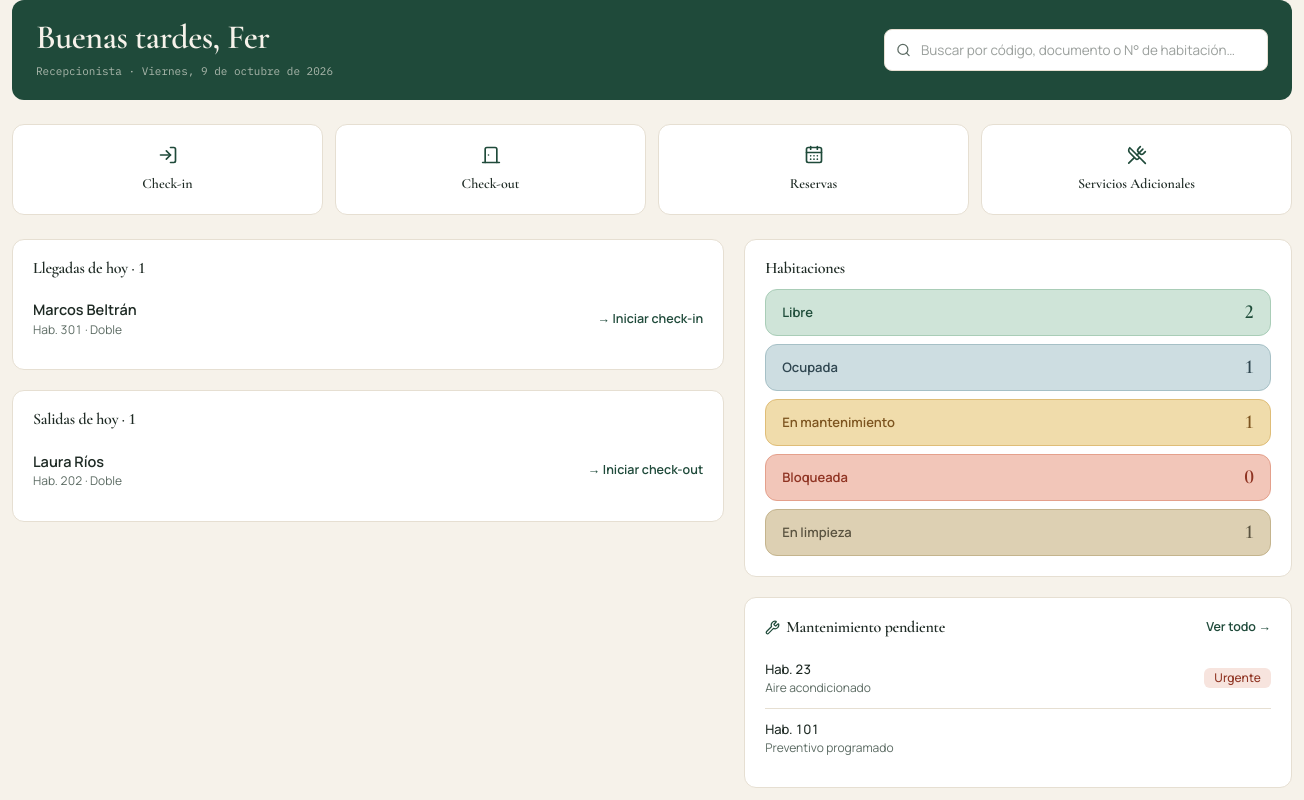
Scenario: RecepcionistaInicio — buscador único del header › sin coincidencias en ningún lado: muestra un toast, no navega
The width and height of the screenshot is (1304, 800).
In the field with placeholder "Buscar por código, documento o N° de habitación…": (1076, 50) x1=884 y1=29 x2=1268 y2=71, type "no-existe-999"
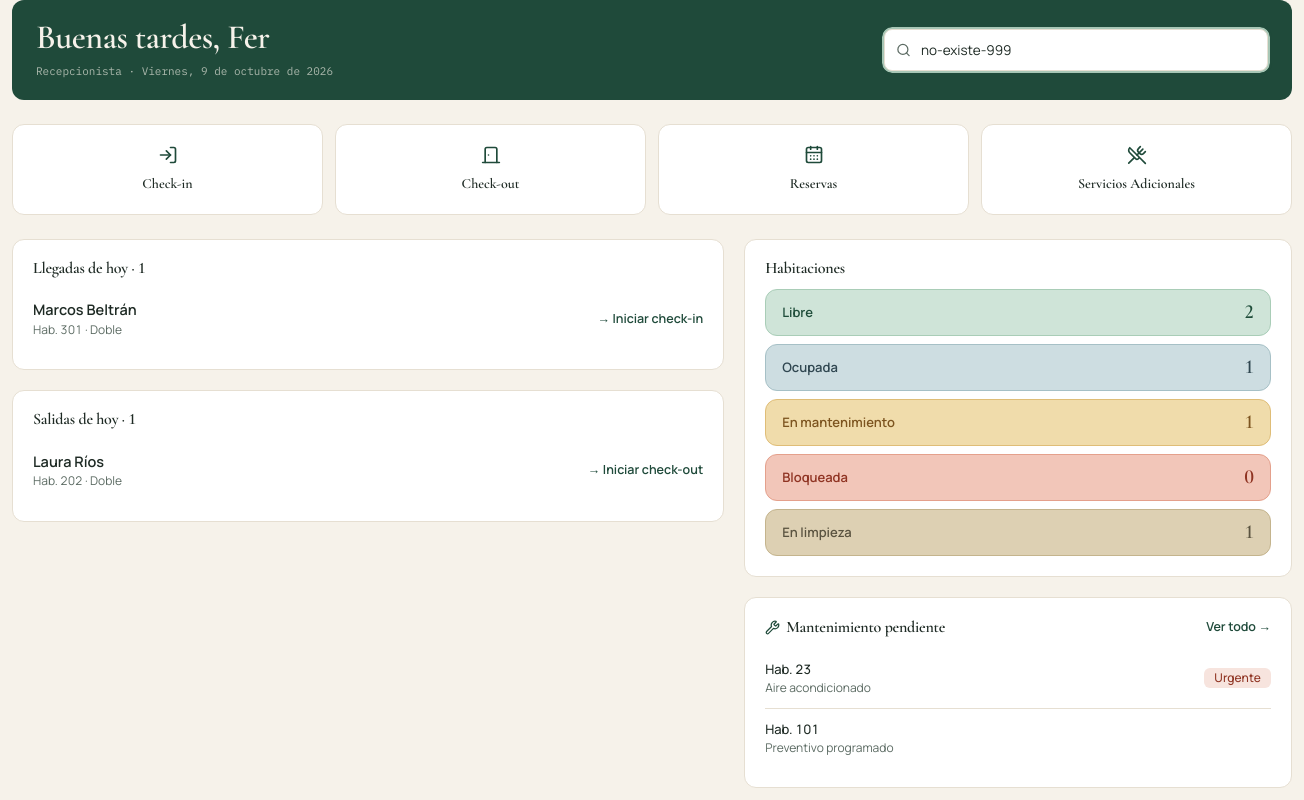
Press Enter
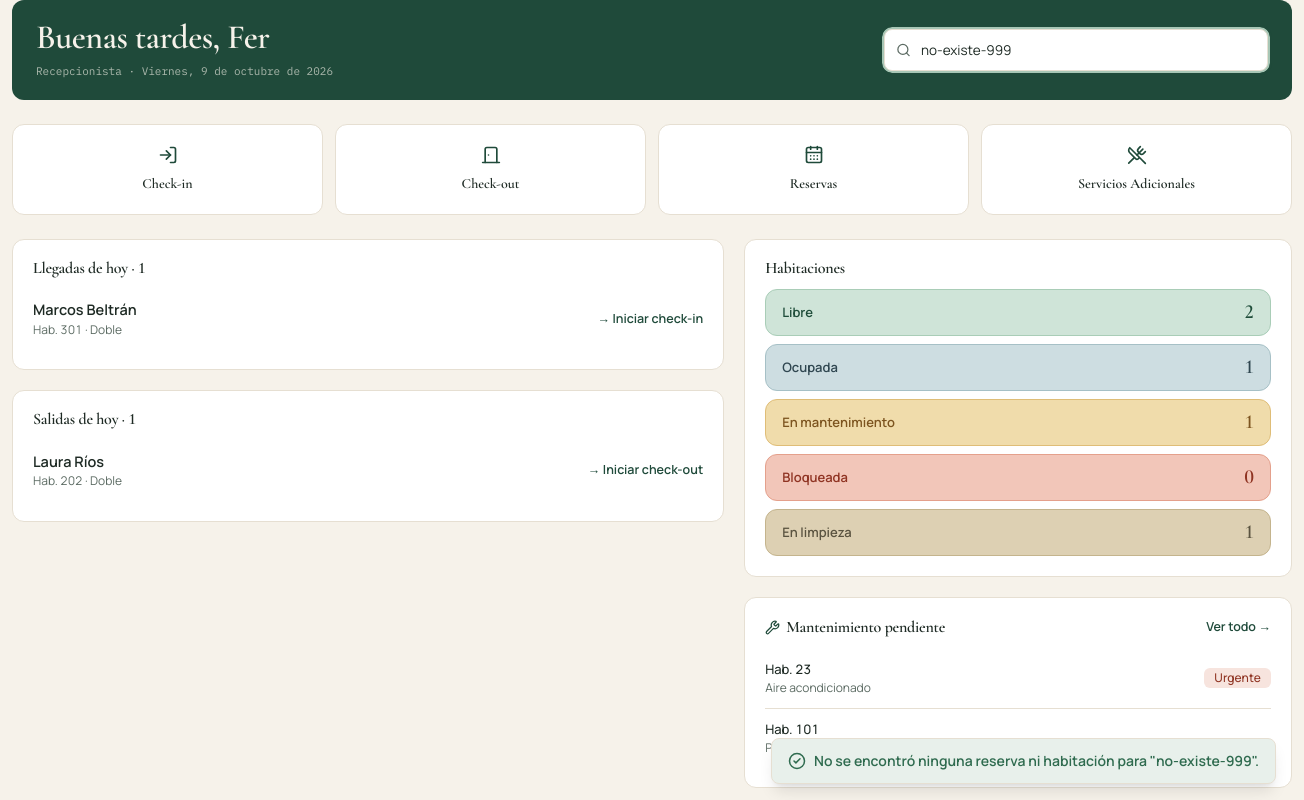
Check: the text "No se encontró ninguna reserva ni habitación para \"no-existe-999\"." is shown, box x1=771 y1=738 x2=1276 y2=784
